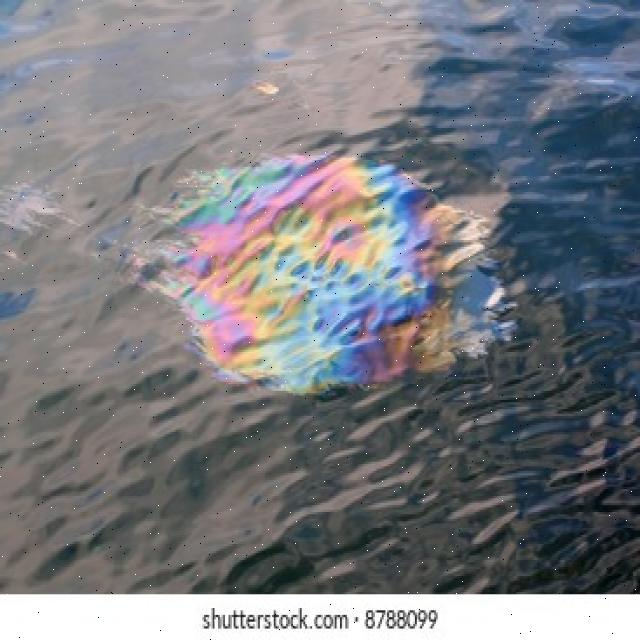rainbow: (140, 153, 511, 394)
truecolor: (0, 2, 640, 593)
